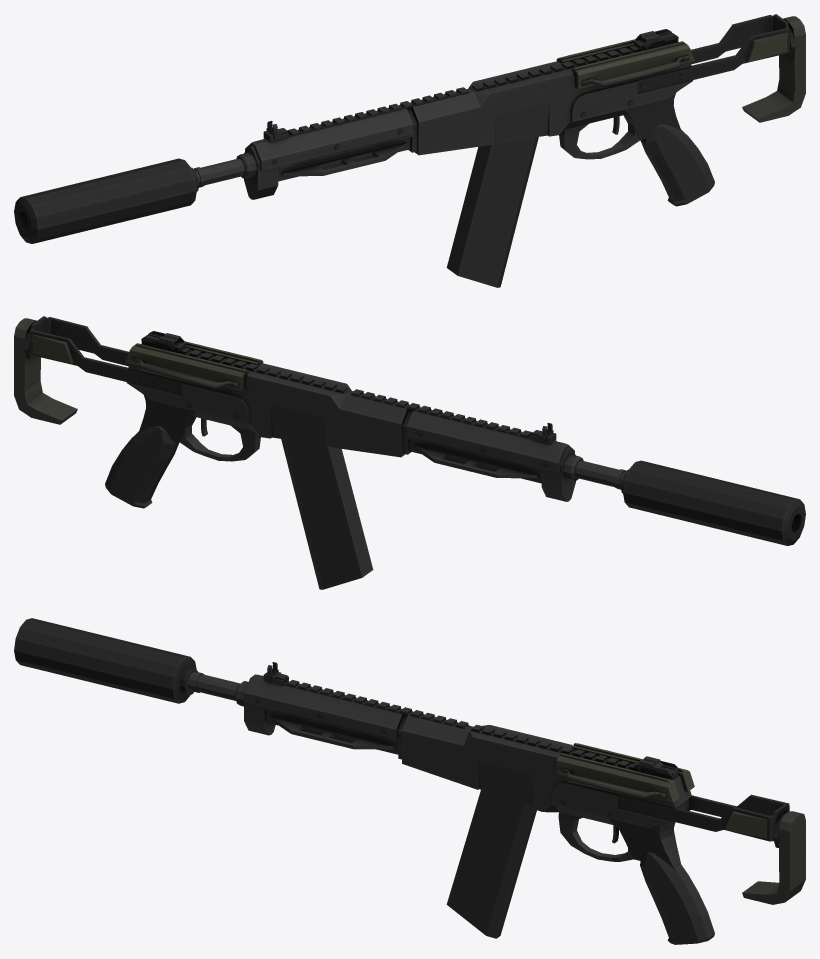
The model's file is Rifle_3.fbx.
3 renders of one model, top to bottom at view 1: azimuth 30°, elevation 25°; view 2: azimuth 150°, elevation 25°; view 3: azimuth 330°, elevation 25°, orthographic.
Visible parts, largest first — view 1: rifle_3; view 2: rifle_3; view 3: rifle_3.
Part boxes in pixels (x1,y1,x2,y2): rifle_3: (14,14,805,287); rifle_3: (14,316,805,589); rifle_3: (14,618,805,944).
Size of the model in its own units: 4123 by 1109 by 343.
